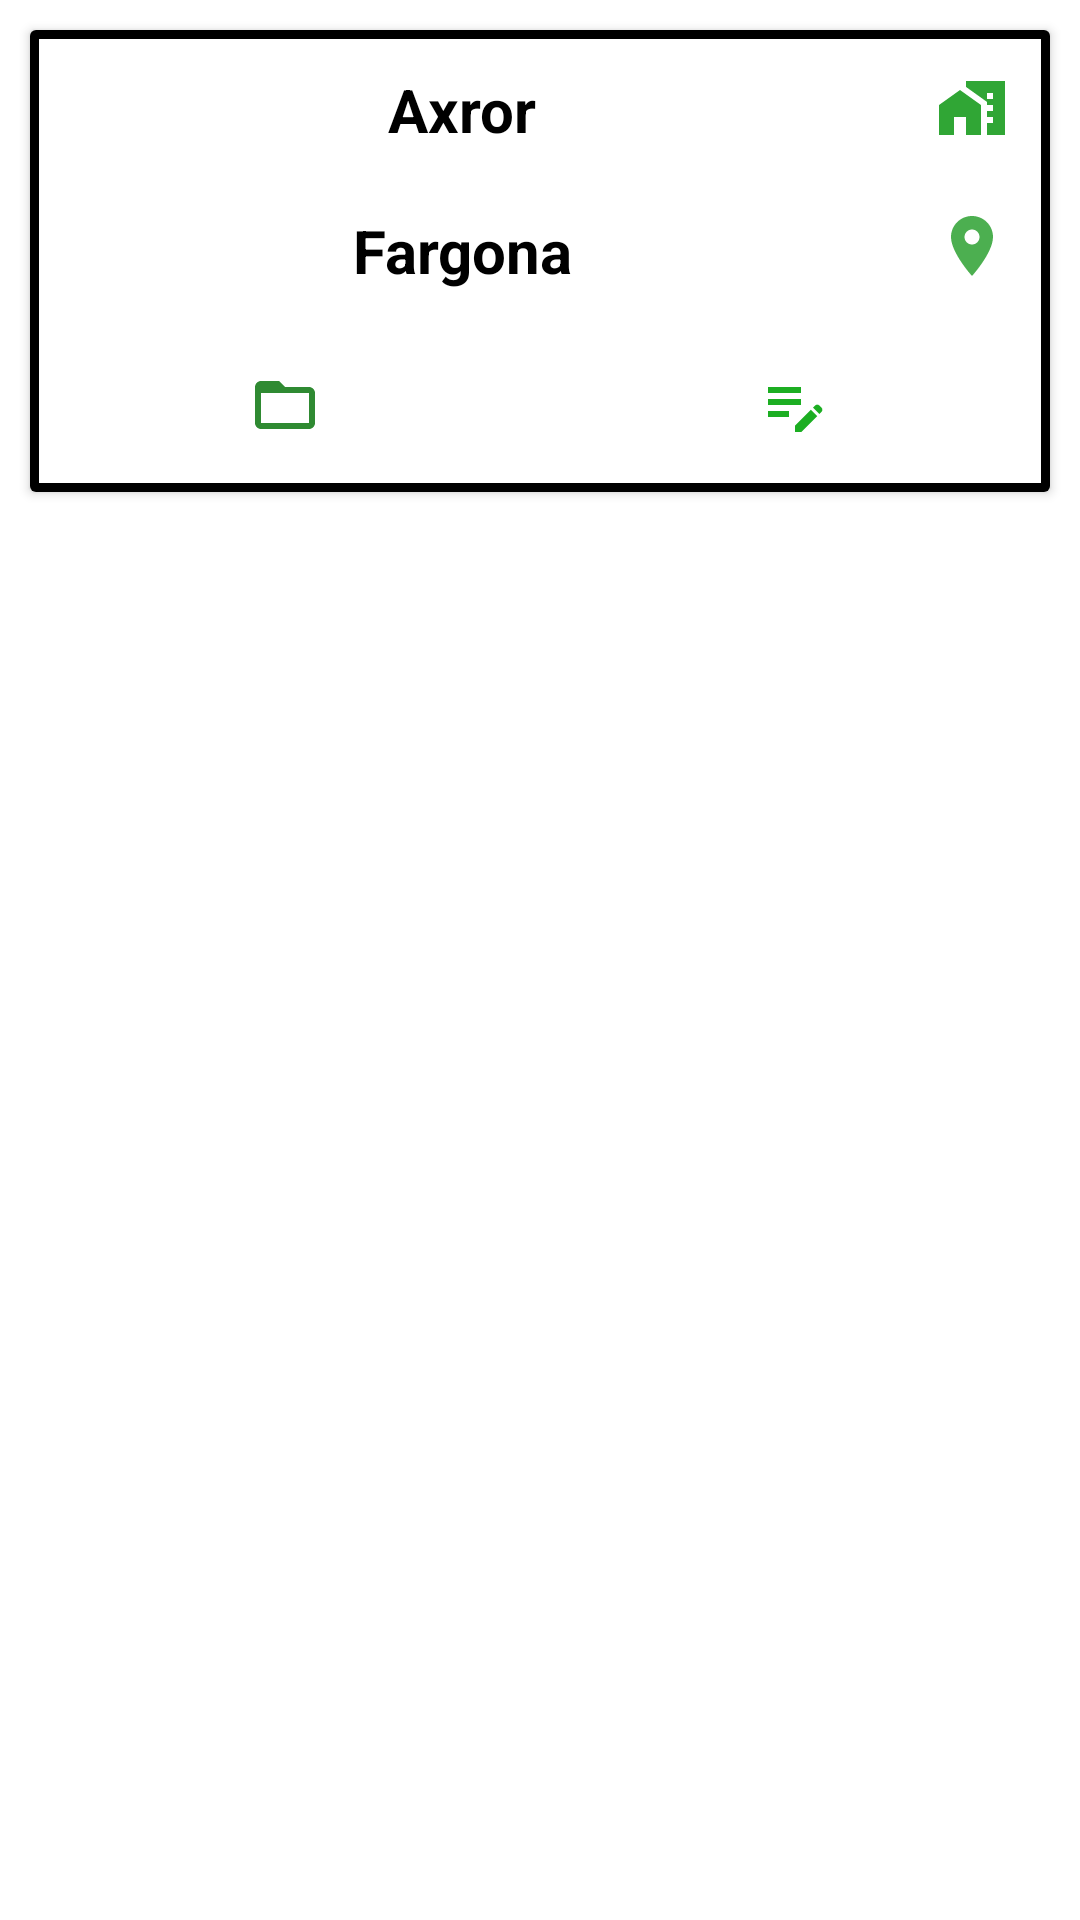

Where to tap for icons on this 1080×1920 app screen, as (x,y):
edit: (795,409)
folder open: (285,405)
home work: (972,108)
location: (972,246)
